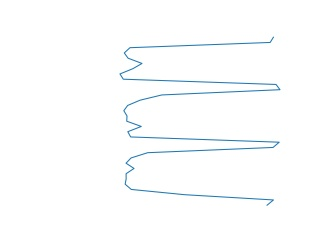majorRiverChannelBar: (116, 38, 286, 209)
